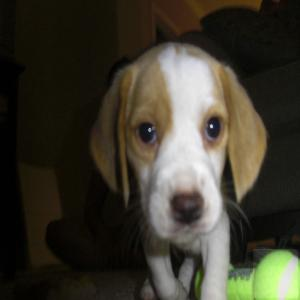TennisBall: (254, 250, 300, 300)
